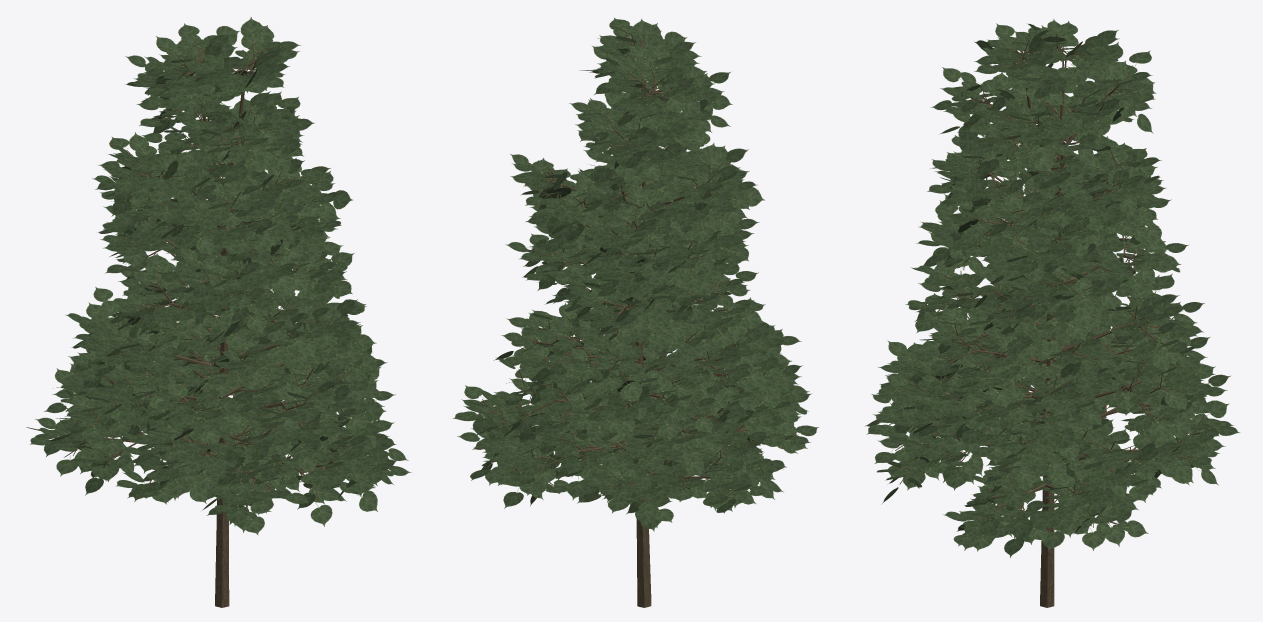
Rendered from tree-02.glb.
The picture shows the model from 3 angles, left to right: view 1: azimuth 30°, elevation 25°; view 2: azimuth 150°, elevation 25°; view 3: azimuth 270°, elevation 25°; orthographic projection. The views are drawn at different scales.
Parts seen in each view (by area): view 1: Tilia_europaea_50y_02_LoD2B; view 2: Tilia_europaea_50y_02_LoD2B; view 3: Tilia_europaea_50y_02_LoD2B.
Part boxes in pixels (x1=…): Tilia_europaea_50y_02_LoD2B: x1=26, y1=17, x2=411, y2=607; Tilia_europaea_50y_02_LoD2B: x1=452, y1=18, x2=818, y2=607; Tilia_europaea_50y_02_LoD2B: x1=864, y1=19, x2=1239, y2=607.
Bounding box in the file's own units: 7.53 × 13.01 × 7.83.
2 materials, 2 textured.
